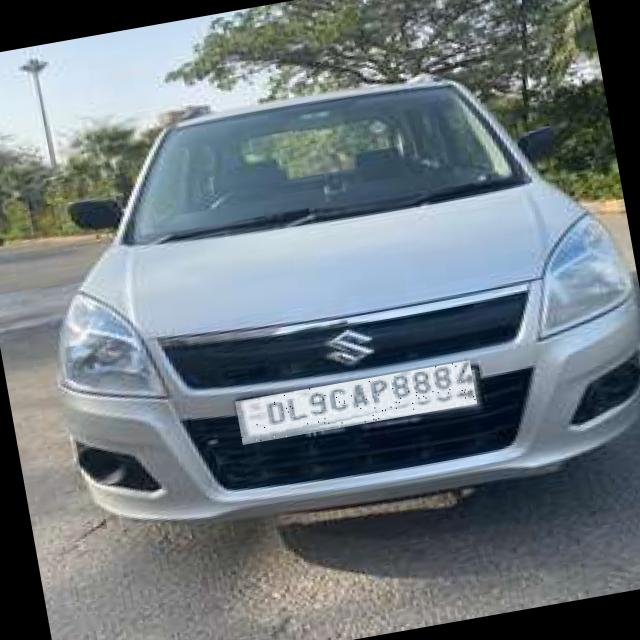Plate: (236, 361, 478, 446)
